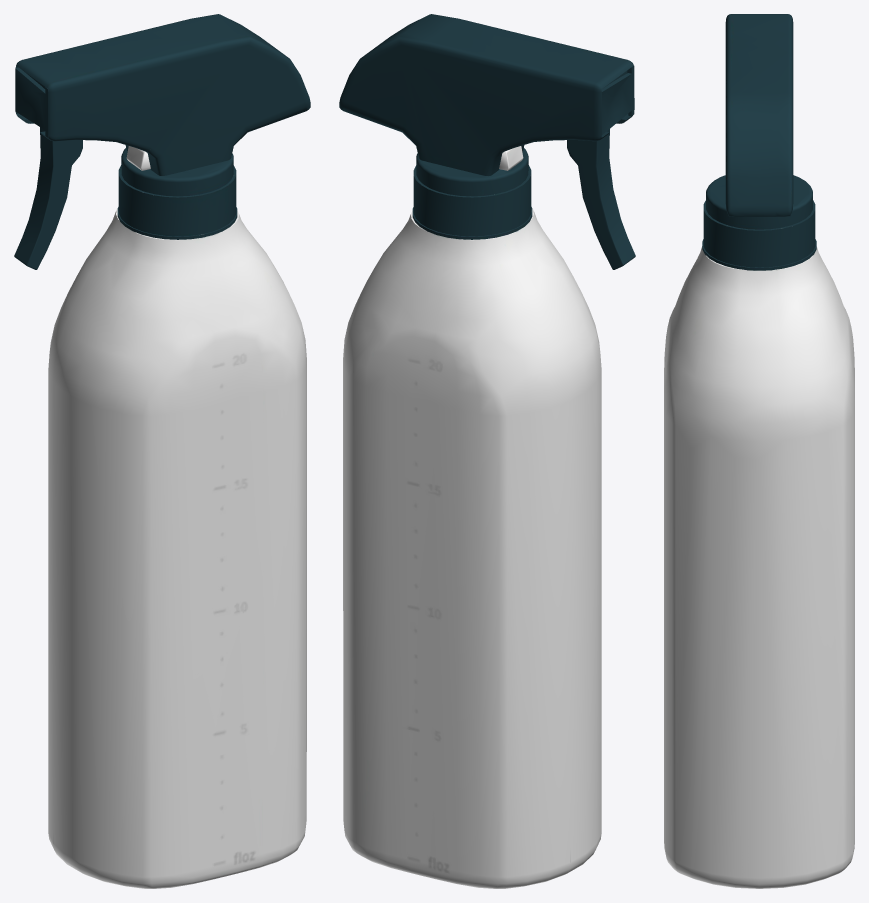
The model's file is PEPPRIG Pulvérisateur 55 cl.glb.
3 views of the same model, side by side, from view 1: azimuth 30°, elevation 25°; view 2: azimuth 150°, elevation 25°; view 3: azimuth 270°, elevation 25° (orthographic). The views are drawn at different scales.
Parts seen in each view (by area): view 1: Mesh_0; view 2: Mesh_0; view 3: Mesh_0.
Boxes of the visible parts, <box> form: Mesh_0: <box>14,14,310,888</box>; Mesh_0: <box>339,14,635,888</box>; Mesh_0: <box>664,14,854,888</box>.
Bounding box in the file's own units: 0.06 × 0.1678 × 0.0381.
Materials: 1 (1 with a texture image).
